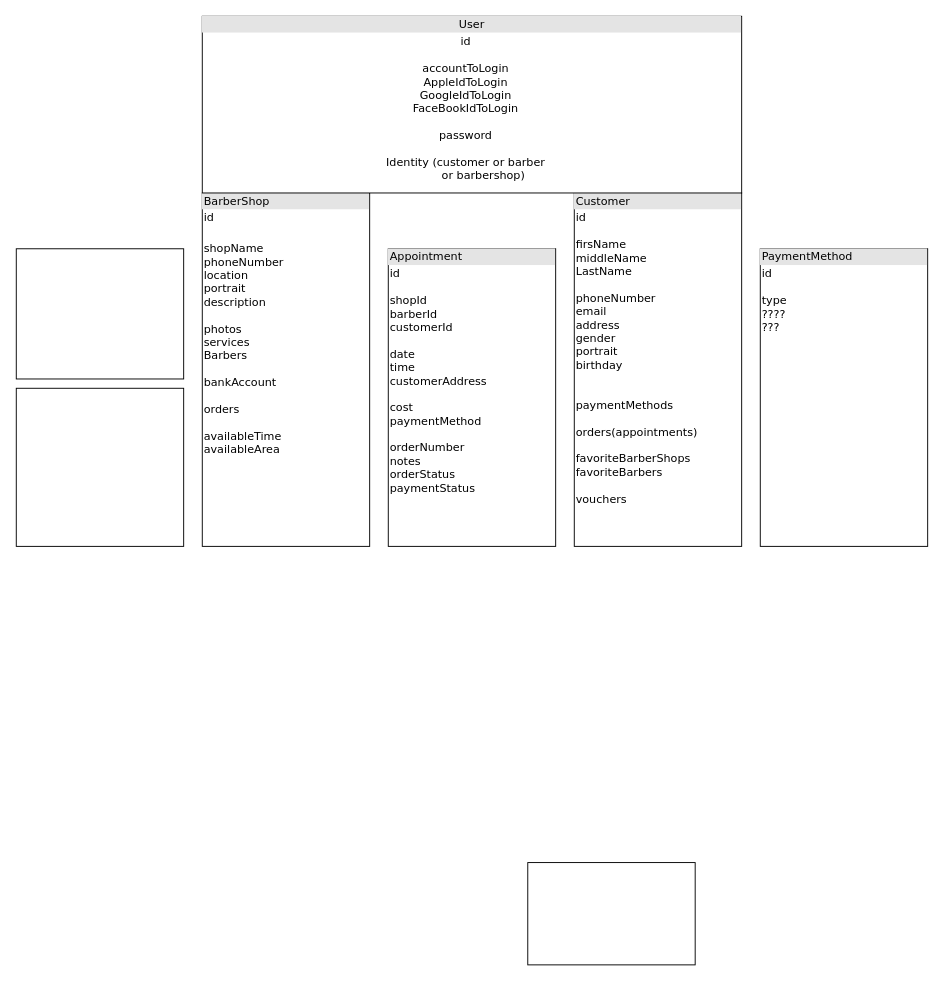
Image size: 944x981. Some labels were removed from this diagram. Here are the shapes that lost their labels. From the top down, the box of each, then its label:
(15, 248, 184, 379): Barber id barberName phoneNumber servicesCanDo description baberShop
(15, 387, 184, 546): Service id serviceName genderType price description photoDemos availableVouchers
(527, 862, 695, 965): Tablename PK uniqueId FK1 foreignKey fieldname fieldname FK1 foreignKey
